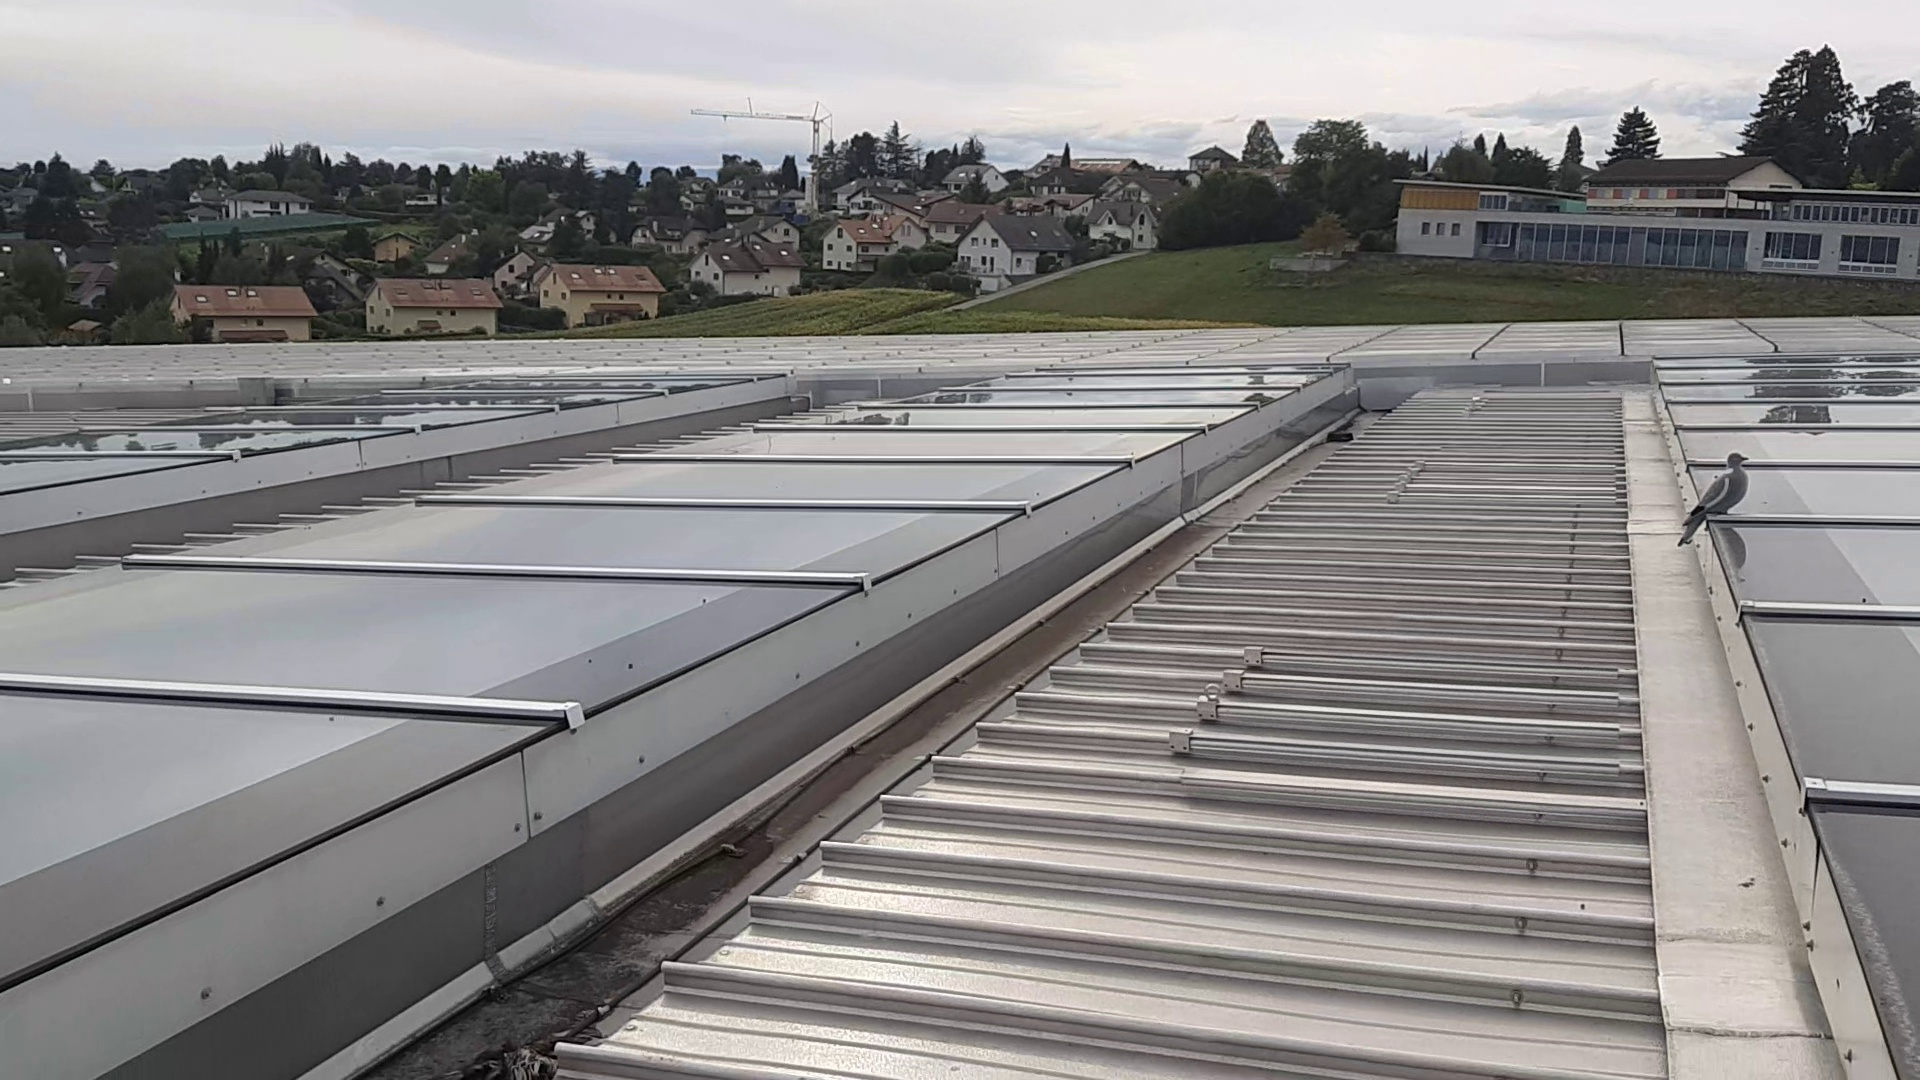Pigeon: (1687, 447, 1755, 534)
